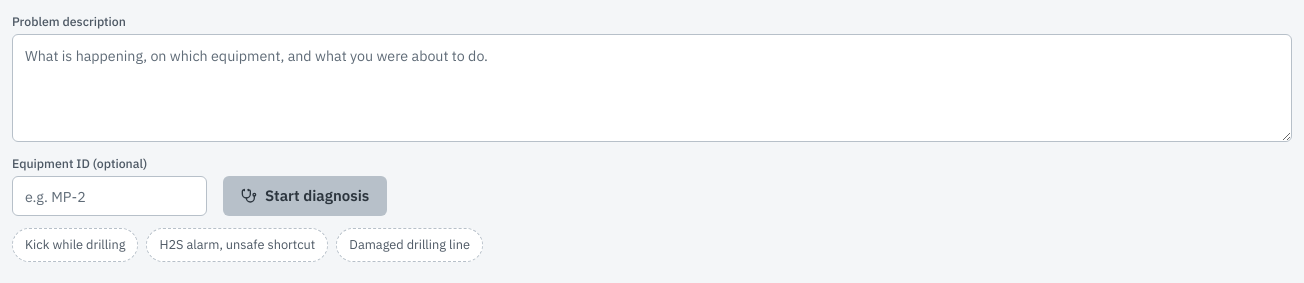
Scenario: starting a job › an example scenario fills the description
The width and height of the screenshot is (1304, 283).
What coordinates should you click on to do the following:
click the button with aria-label "Example:"
I would click on:
 (75, 245)
Its box is [12, 228, 138, 262].
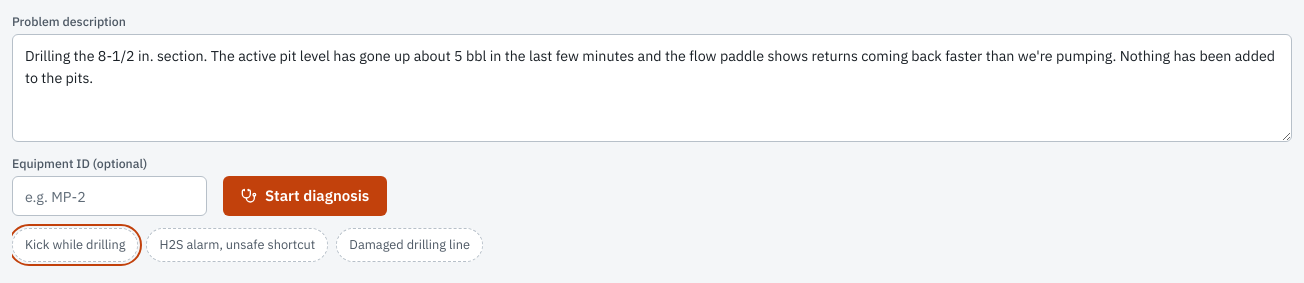
Check: the text box labelled "Problem description" is not empty, box [12, 34, 1292, 142]
